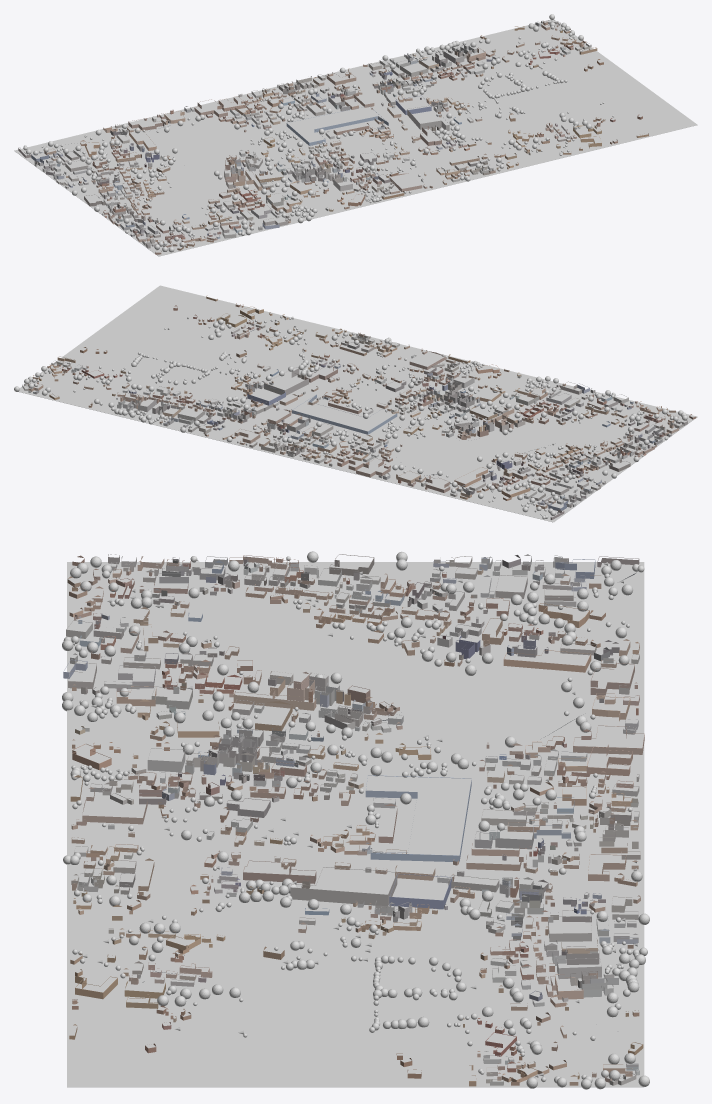
3 views of the same model, one above another, from view 1: azimuth 30°, elevation 25°; view 2: azimuth 150°, elevation 25°; view 3: azimuth 270°, elevation 25° (orthographic). The views are drawn at different scales.
Parts seen in each view (by area): view 1: Ground_Base, BLD-001; view 2: Ground_Base, BLD-001; view 3: Ground_Base, BLD-002, BLD-001, BLD-027.
Part boxes in pixels (box(x1,y1,x2,y2)): Ground_Base: box(14, 19, 697, 256); BLD-001: box(286, 106, 388, 145); Ground_Base: box(18, 285, 697, 522); BLD-001: box(292, 394, 397, 434); Ground_Base: box(67, 562, 644, 1087); BLD-002: box(290, 867, 397, 905); BLD-001: box(365, 775, 471, 862); BLD-027: box(233, 689, 316, 710).
Size of the model in its own units: 1355 by 22.54 by 636.
